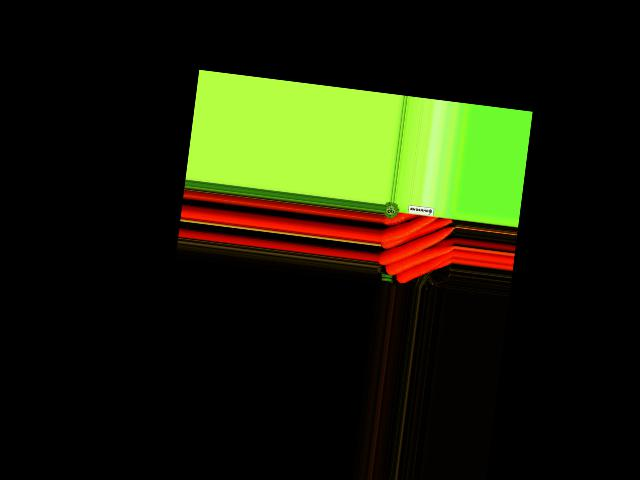carrot: (380, 208, 454, 257)
